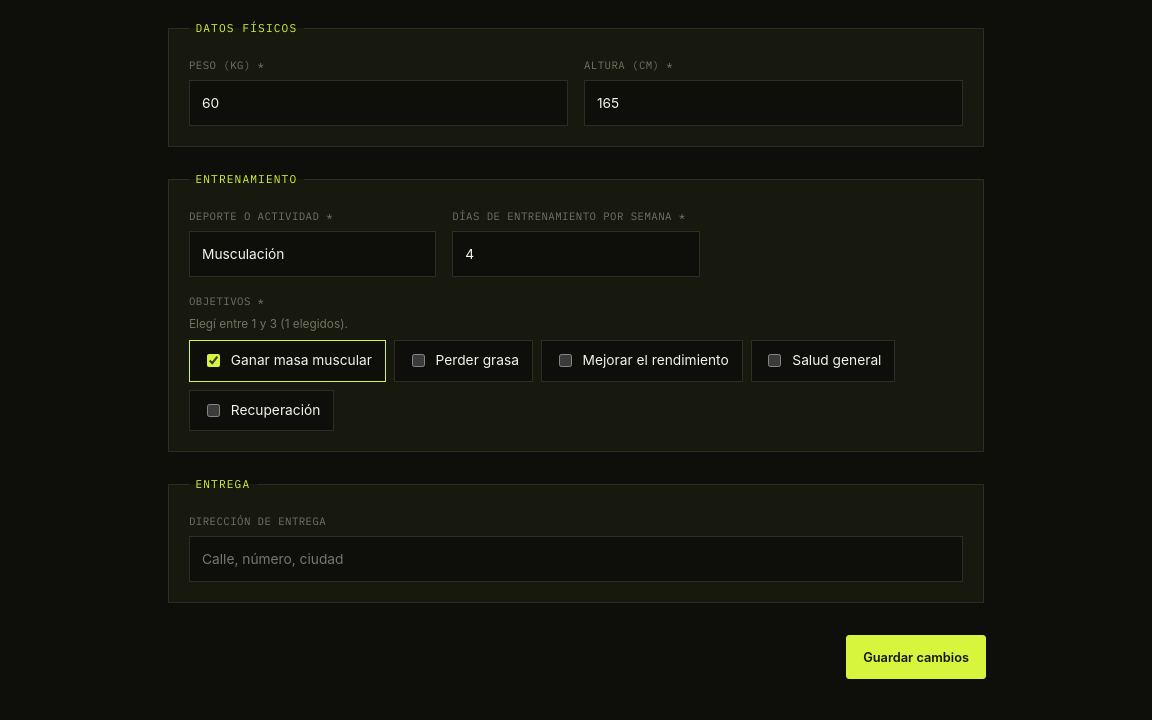
Test case: ClientProfile › does not save when no goal is checked
The width and height of the screenshot is (1152, 720).
(page scrolled)
Expected: the button "Guardar cambios" is shown, [846,635,986,679]
Step 1. Click the checkbox labelled "Ganar masa muscular" → {"x": 213, "y": 361}, box [207,354,220,367]
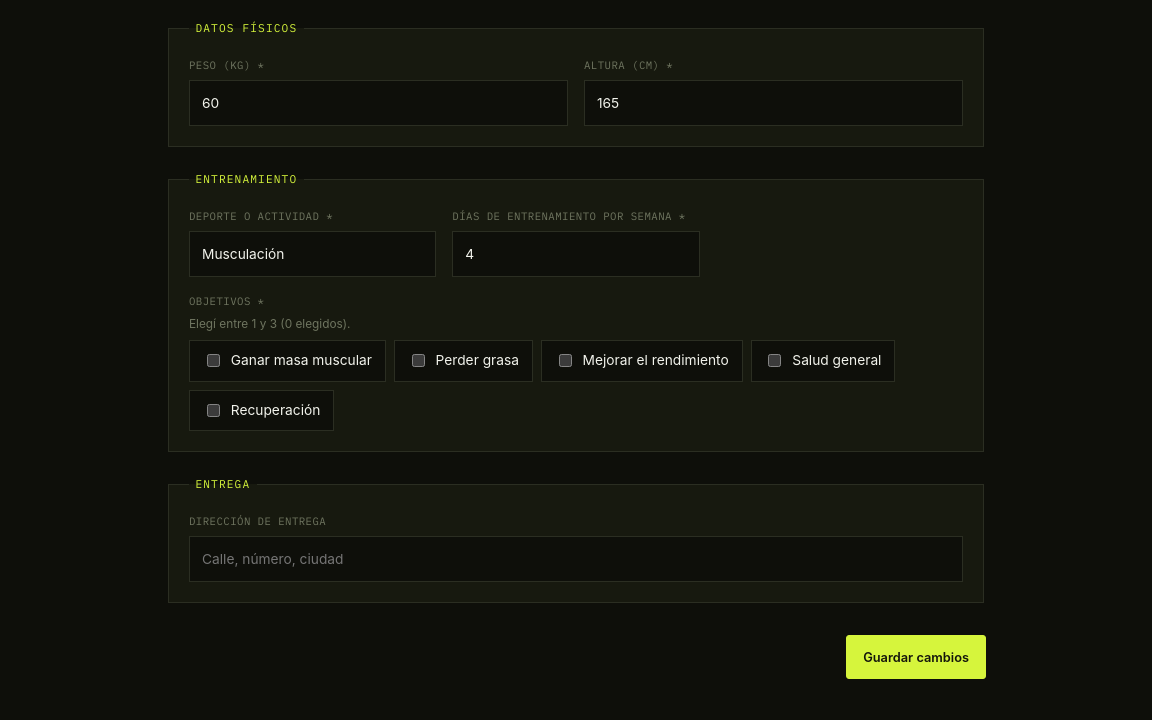
Step 2. Click the button "Guardar cambios" → {"x": 916, "y": 657}, box [846,635,986,679]
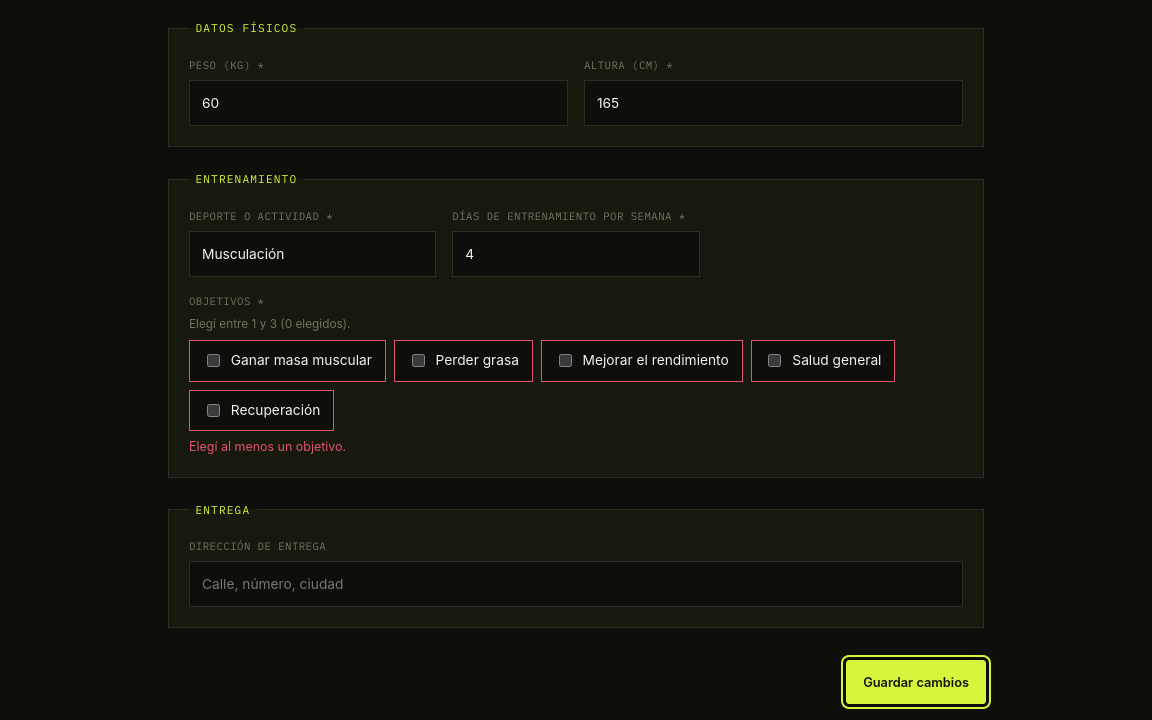
Result: the text "Elegí al menos un objetivo." is shown at [189,439,346,454]
